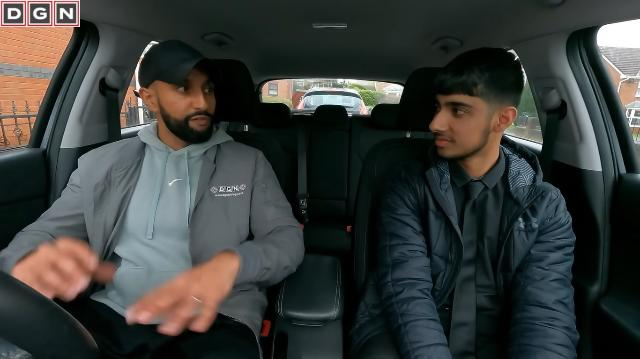no seatbelt: (65, 154, 260, 359), (378, 176, 557, 359)
